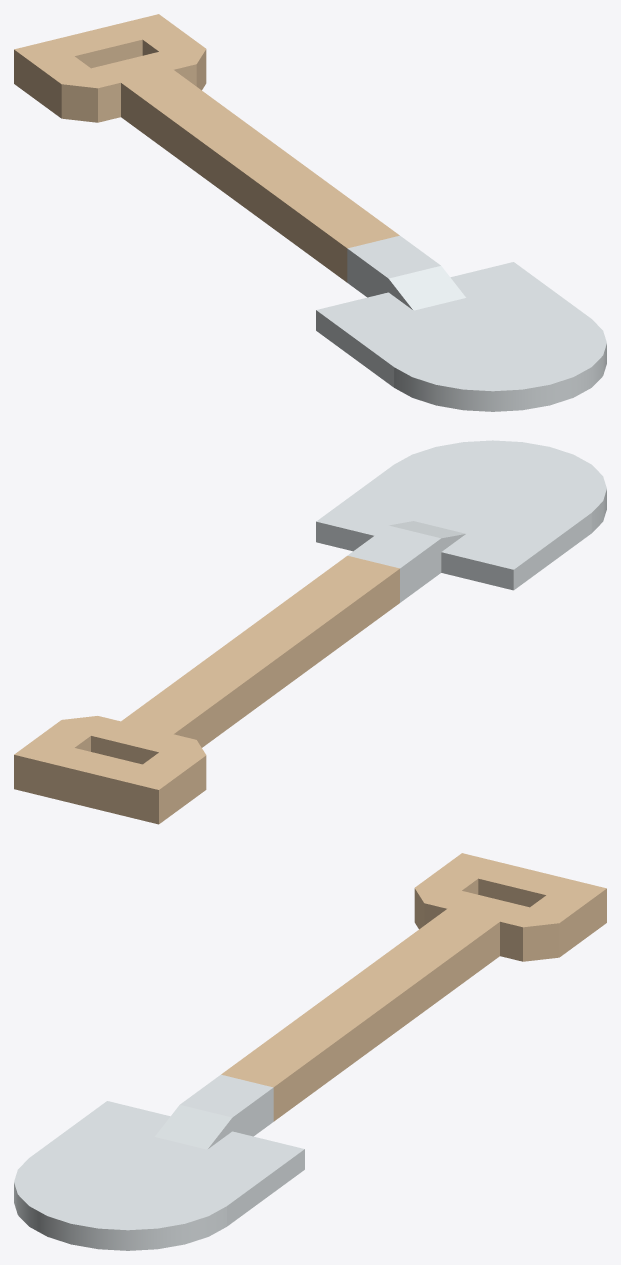
Rendered from shovel.glb.
The picture shows the model from 3 angles, top to bottom: view 1: azimuth 30°, elevation 25°; view 2: azimuth 150°, elevation 25°; view 3: azimuth 330°, elevation 25°; orthographic projection.
Visible parts, largest first — view 1: shovel(Clone); view 2: shovel(Clone); view 3: shovel(Clone).
Boxes of the visible parts, x1,y1,x2,y2 form: shovel(Clone): (14,14,606,411); shovel(Clone): (14,440,606,824); shovel(Clone): (14,853,606,1250).
Size of the model in its own units: 0.192 by 0.032 by 0.78.
